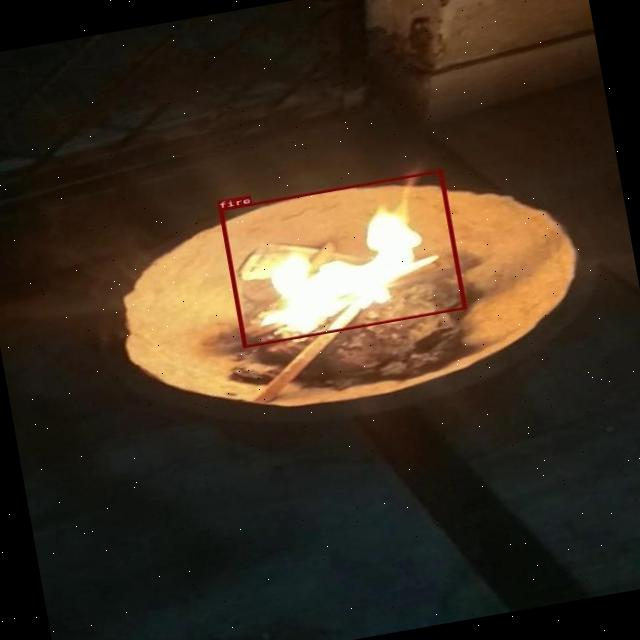fire: (218, 168, 466, 346)
